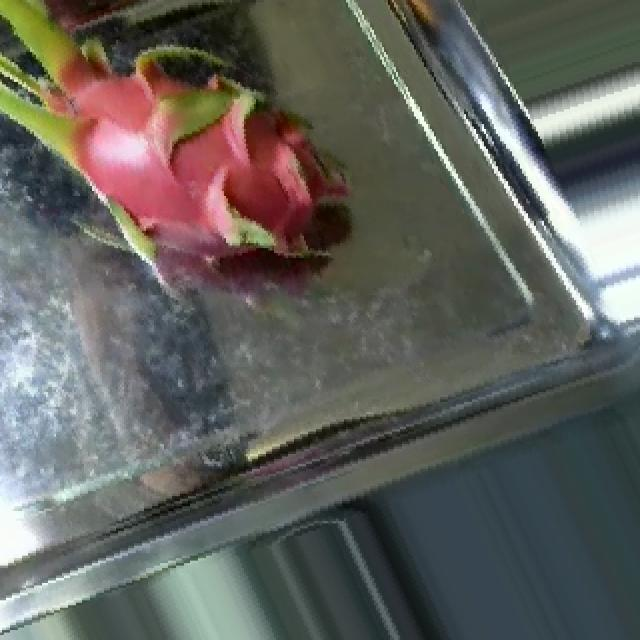fruit: (0, 0, 394, 362)
